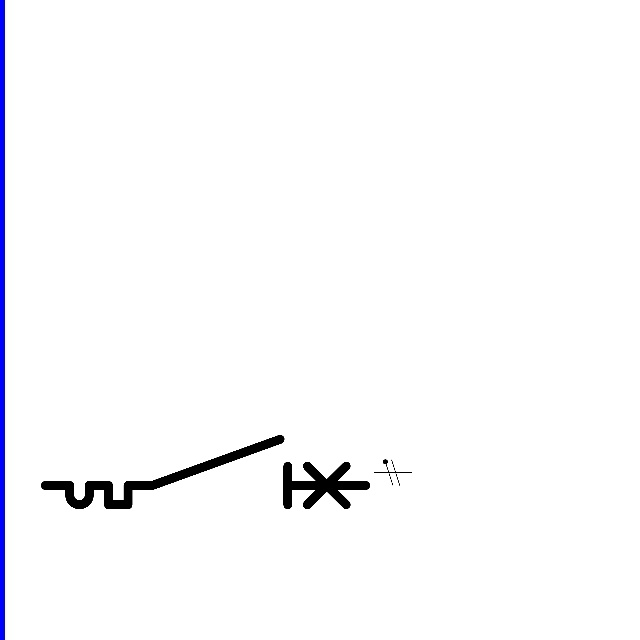interruptor_termomagnetico: (37, 431, 374, 513)
